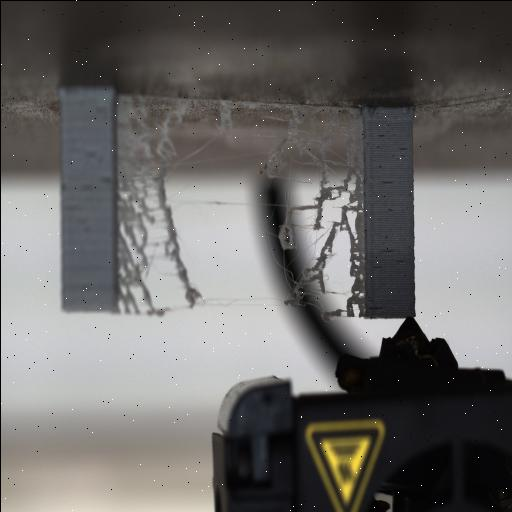stringing: (259, 108, 373, 323), (111, 95, 205, 316)
